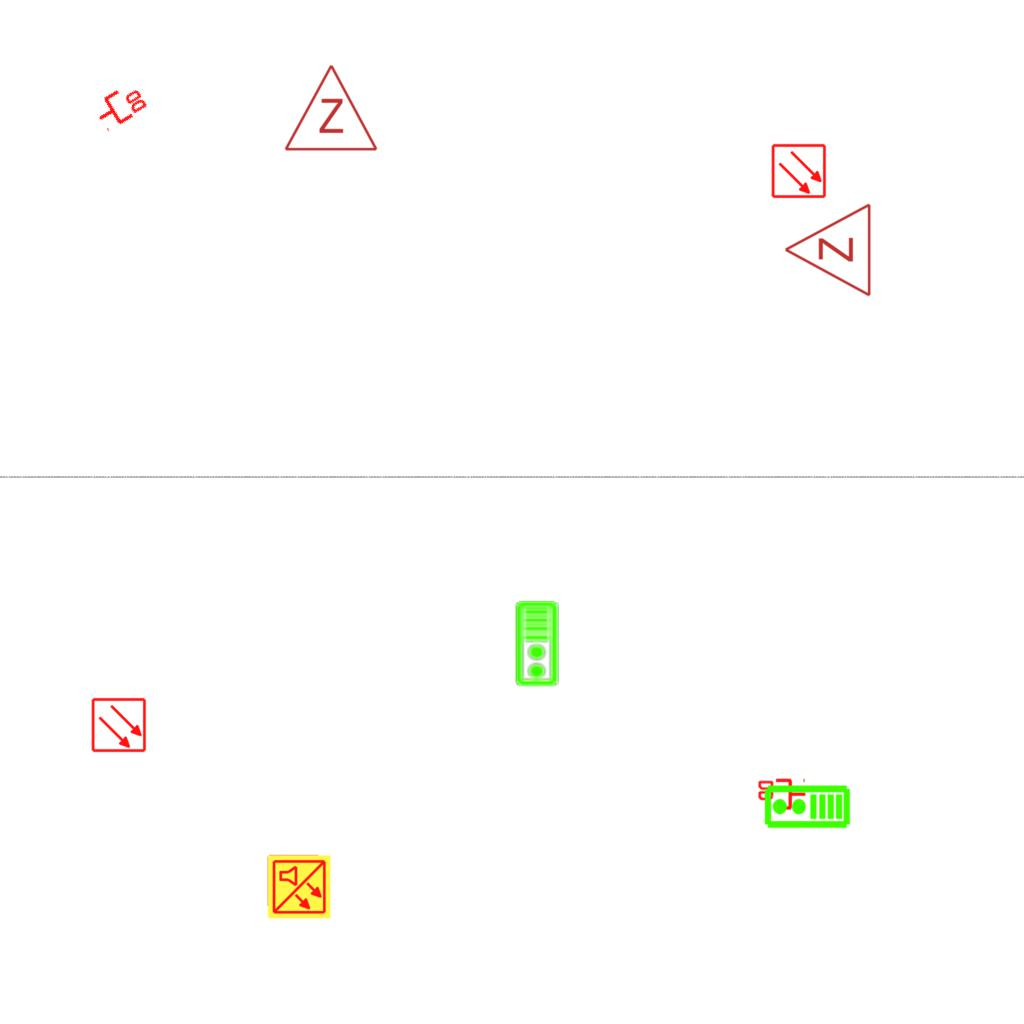Datenanschluss_zweifach: (89, 77, 151, 134), (756, 778, 807, 812)
Gegensprechanlage_mit_Video: (514, 600, 561, 688), (763, 784, 851, 831)
OKW_Multisensormelder_(Kombination_optischer_Rauch-Kahlenmonoxid_Waerme-Melder): (266, 854, 332, 920)
RMO_Rauchmelder_optischer: (91, 697, 147, 753), (771, 143, 827, 199)
Zimmersignalleuchte: (778, 202, 878, 300), (281, 58, 379, 158)
